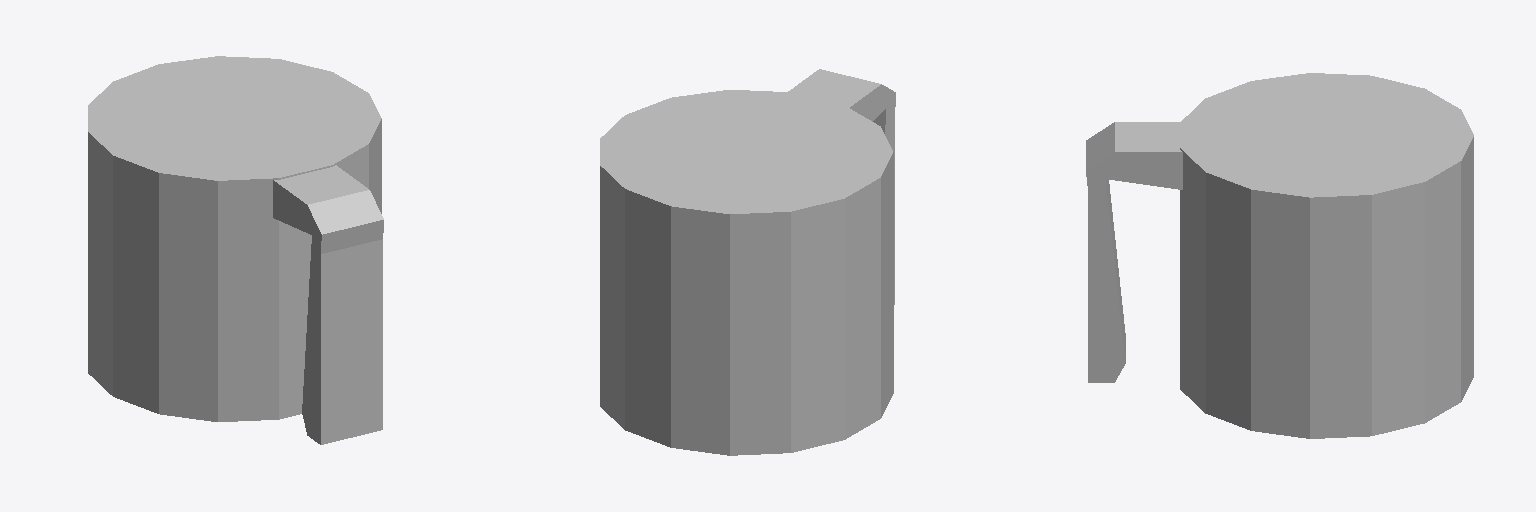
File: mug.obj
3 renders of one model, left to right at view 1: azimuth 30°, elevation 25°; view 2: azimuth 150°, elevation 25°; view 3: azimuth 270°, elevation 25°, orthographic.
Visible parts, largest first — view 1: mug; view 2: mug; view 3: mug.
Boxes of the visible parts, x1=… form: mug: x1=88, y1=56, x2=383, y2=444; mug: x1=600, y1=69, x2=895, y2=455; mug: x1=1086, y1=73, x2=1473, y2=438.
Size of the model in its own units: 15.88 by 14.32 by 20.88.